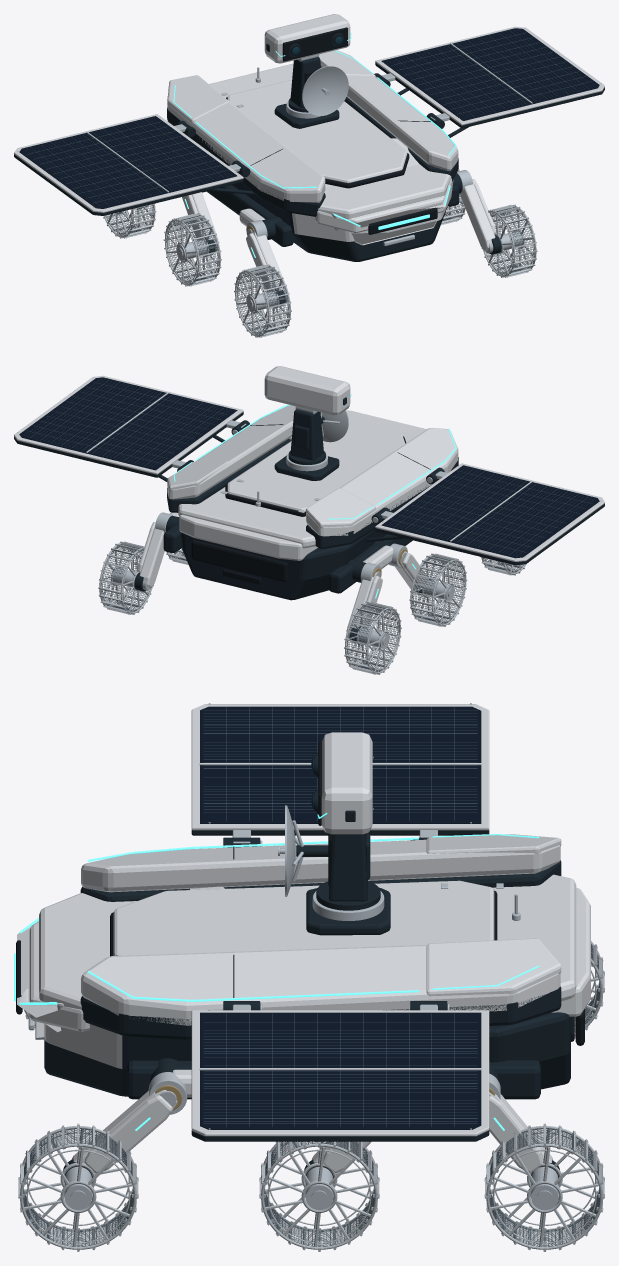
File: white-mecha-rover.glb
The picture shows the model from 3 angles, top to bottom: view 1: azimuth 30°, elevation 25°; view 2: azimuth 150°, elevation 25°; view 3: azimuth 270°, elevation 25°; orthographic projection. The views are drawn at different scales.
Visible parts, largest first — view 1: White mecha static assembly, R_middle · rim and cleats, R_front · rim and cleats, L_front · rim and cleats, R_middle · open fine mesh, R_front · open fine mesh, L_front · open fine mesh, R_rear · rim and cleats, R_rear · open fine mesh; view 2: White mecha static assembly, R_rear · rim and cleats, R_middle · rim and cleats, L_rear · rim and cleats, R_rear · open fine mesh, R_middle · open fine mesh, L_rear · open fine mesh; view 3: White mecha static assembly, L_front · rim and cleats, L_rear · rim and cleats, L_middle · rim and cleats, L_rear · open fine mesh, L_front · open fine mesh, L_middle · open fine mesh, L_middle · central hub, L_rear · central hub, L_front · central hub, R_rear · rim and cleats.
Boxes of the visible parts, x1,y1,x2,y2 form: White mecha static assembly: [14, 14, 604, 305]; R_middle · rim and cleats: [163, 213, 221, 286]; R_front · rim and cleats: [234, 264, 291, 337]; L_front · rim and cleats: [481, 204, 537, 277]; R_middle · open fine mesh: [166, 216, 218, 283]; R_front · open fine mesh: [237, 267, 288, 335]; L_front · open fine mesh: [487, 207, 534, 275]; R_rear · rim and cleats: [103, 203, 156, 238]; R_rear · open fine mesh: [107, 205, 153, 235]; White mecha static assembly: [14, 366, 604, 642]; R_rear · rim and cleats: [344, 601, 401, 674]; R_middle · rim and cleats: [409, 553, 467, 626]; L_rear · rim and cleats: [98, 541, 153, 614]; R_rear · open fine mesh: [346, 604, 398, 672]; R_middle · open fine mesh: [412, 556, 464, 624]; L_rear · open fine mesh: [101, 544, 149, 612]; White mecha static assembly: [14, 703, 590, 1182]; L_front · rim and cleats: [18, 1123, 138, 1251]; L_rear · rim and cleats: [484, 1123, 604, 1251]; L_middle · rim and cleats: [259, 1141, 379, 1251]; L_rear · open fine mesh: [489, 1128, 599, 1246]; L_front · open fine mesh: [23, 1128, 133, 1246]; L_middle · open fine mesh: [264, 1141, 374, 1246]; L_middle · central hub: [305, 1166, 333, 1210]; L_rear · central hub: [531, 1166, 558, 1210]; L_front · central hub: [64, 1166, 91, 1210]; R_rear · rim and cleats: [574, 941, 604, 1038].
Bounding box in the file's own units: 3.86 × 1.59 × 2.24.
